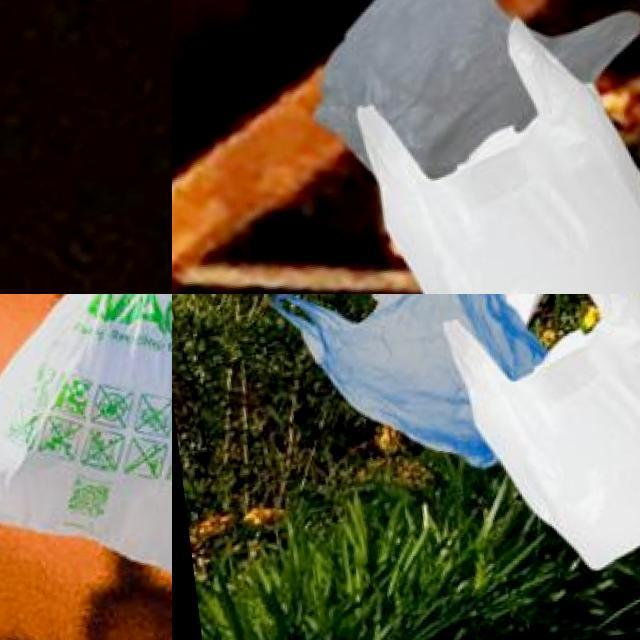waste: (346, 3, 640, 294), (437, 294, 640, 580), (0, 294, 172, 630), (259, 294, 564, 479), (294, 0, 640, 158)
